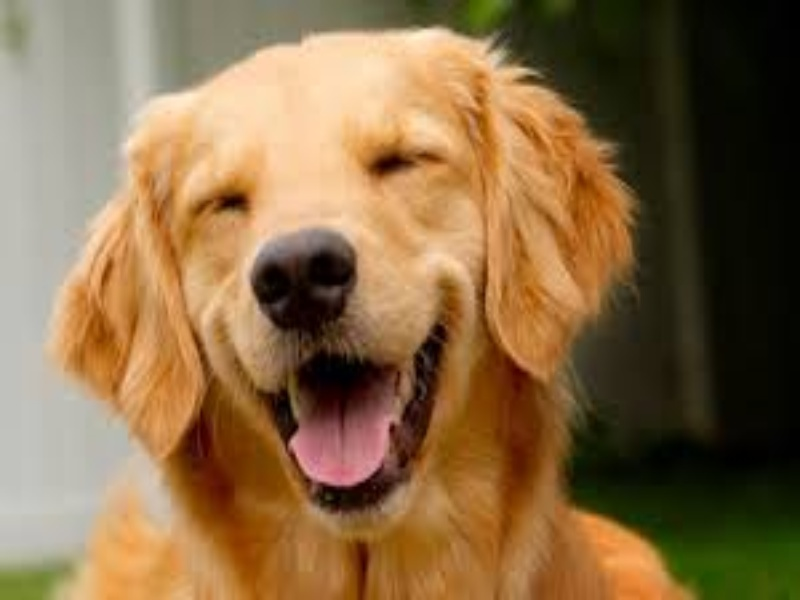dog: (44, 13, 715, 581)
